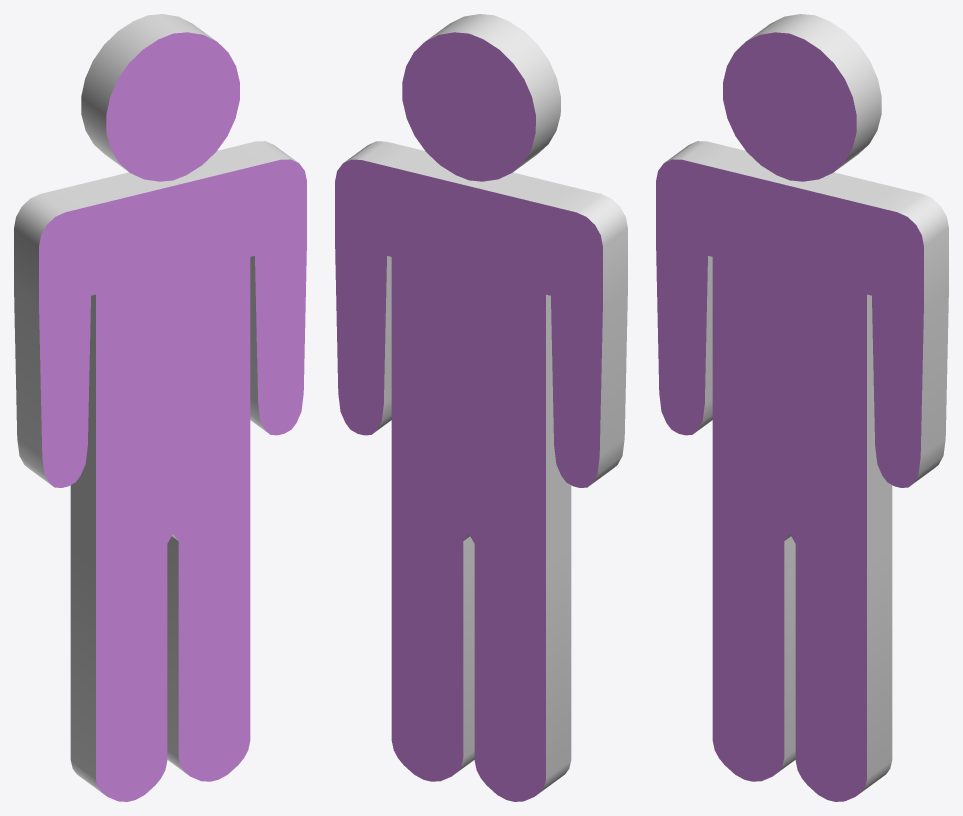
The model's file is Male Dummy B.fbx.
3 views of the same model, side by side, from view 1: azimuth 30°, elevation 25°; view 2: azimuth 150°, elevation 25°; view 3: azimuth 330°, elevation 25° (orthographic).
Visible parts, largest first — view 1: Male Dummy B; view 2: Male Dummy B; view 3: Male Dummy B.
Boxes of the visible parts, bbox=[...] form: Male Dummy B: bbox=[14, 14, 306, 801]; Male Dummy B: bbox=[335, 14, 627, 801]; Male Dummy B: bbox=[656, 14, 948, 801].
Bounding box in the file's own units: 84.53 × 228 × 13.75.
